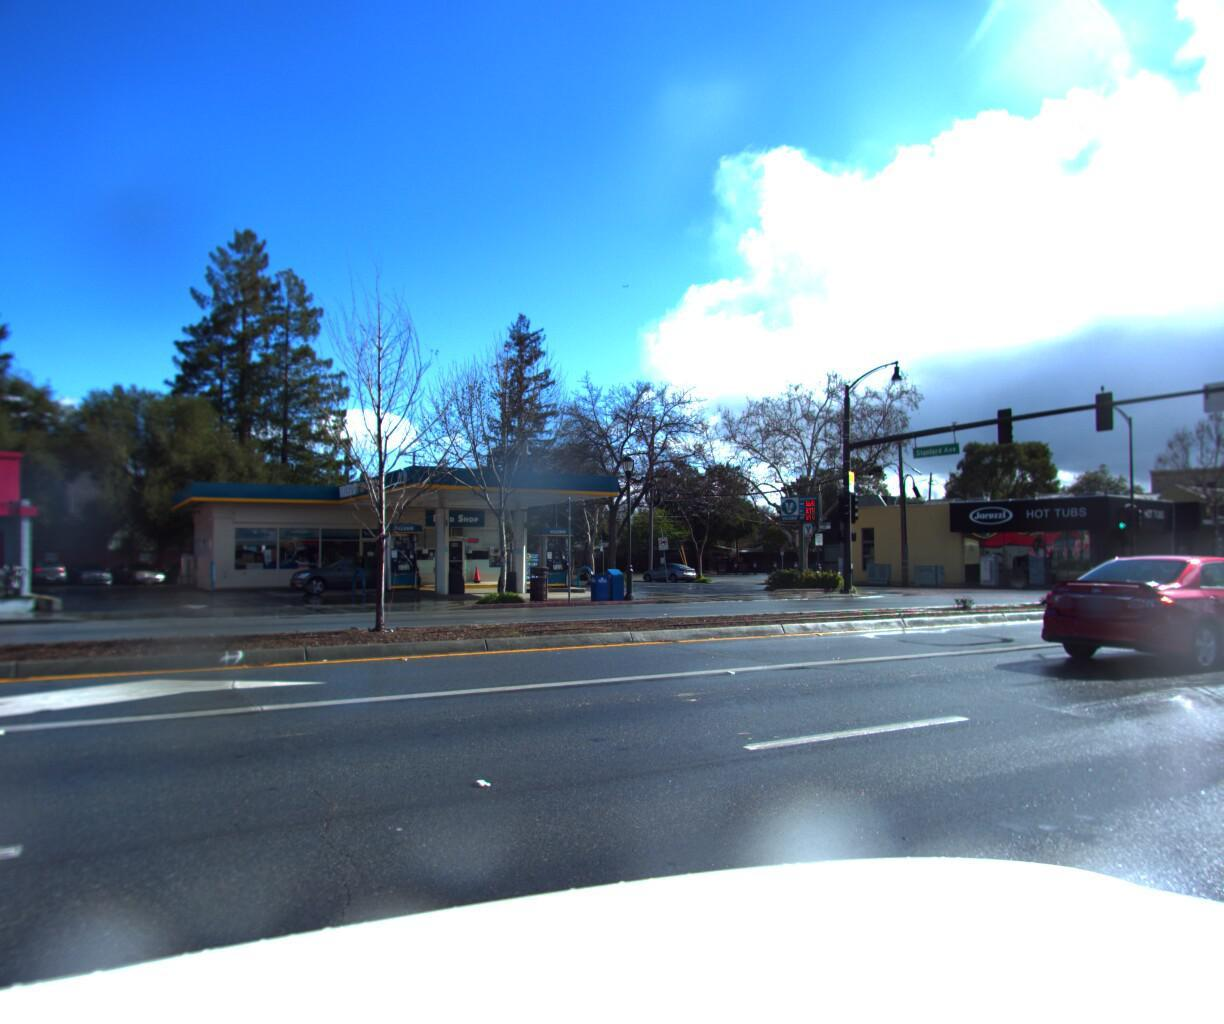car: (1028, 548, 1224, 676), (283, 542, 430, 600), (634, 556, 701, 583)
